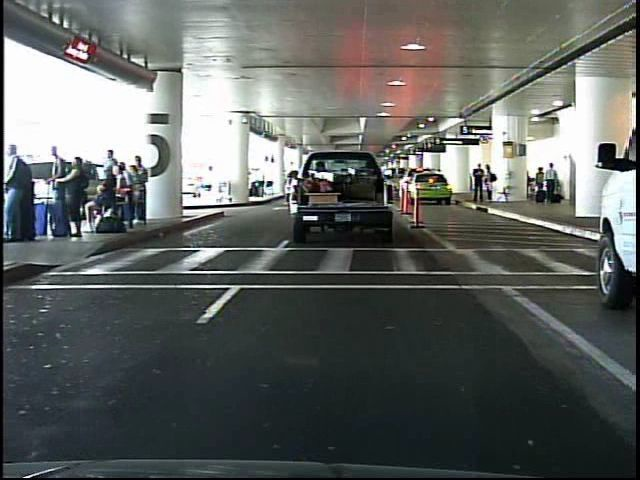person: (480, 164, 496, 205), (470, 160, 484, 206)
